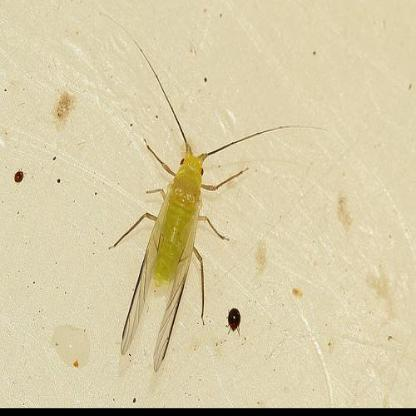aphid: (106, 33, 274, 376)
